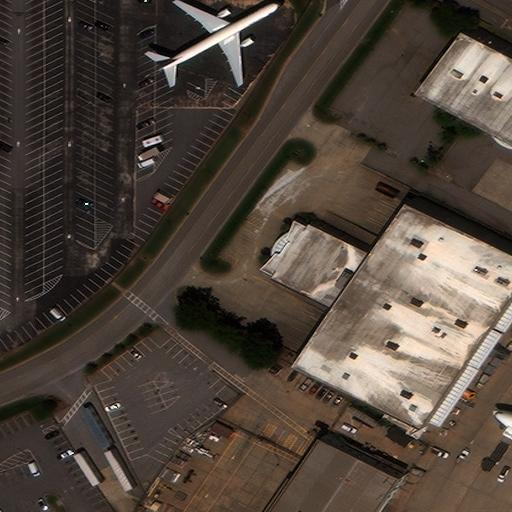Large Civil Transport: (151, 0, 285, 83)
